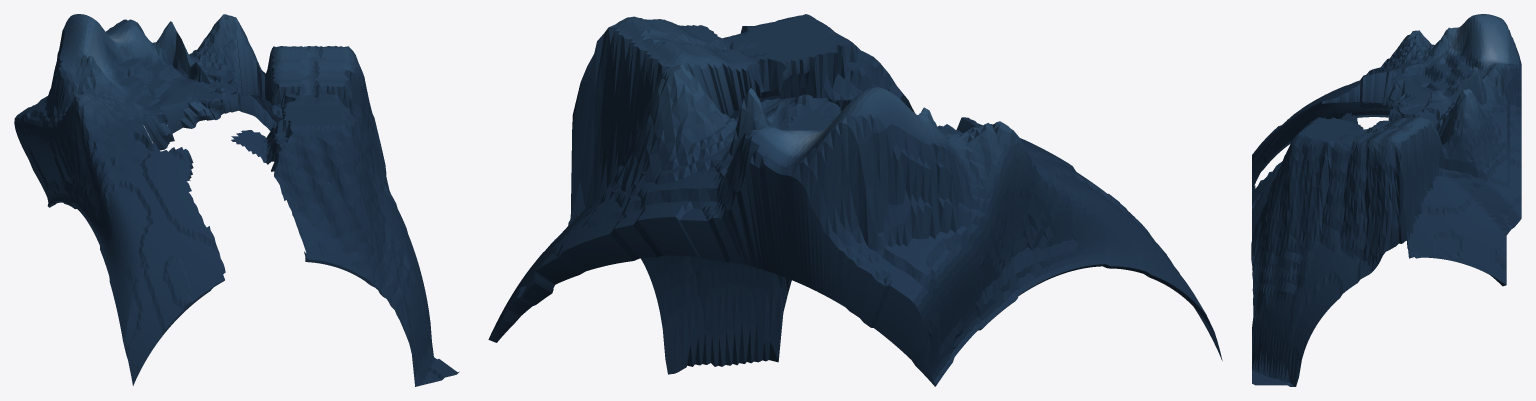
File: citadel-master-terrain-r09.glb
The picture shows the model from 3 angles, left to right: view 1: azimuth 30°, elevation 25°; view 2: azimuth 150°, elevation 25°; view 3: azimuth 270°, elevation 25°; orthographic projection. The views are drawn at different scales.
Parts seen in each view (by area): view 1: citadel-oskar-grid-mountain-surface, citadel-coastal-cliff-seal; view 2: citadel-oskar-grid-mountain-surface, citadel-coastal-cliff-seal; view 3: citadel-oskar-grid-mountain-surface, citadel-coastal-cliff-seal.
Boxes of the visible parts, x1=… form: citadel-oskar-grid-mountain-surface: x1=14, y1=14, x2=459, y2=386; citadel-coastal-cliff-seal: x1=140, y1=31, x2=286, y2=180; citadel-oskar-grid-mountain-surface: x1=488, y1=14, x2=1222, y2=386; citadel-coastal-cliff-seal: x1=684, y1=56, x2=975, y2=133; citadel-oskar-grid-mountain-surface: x1=1251, y1=14, x2=1521, y2=386; citadel-coastal-cliff-seal: x1=1322, y1=71, x2=1457, y2=144.
Bounding box in the file's own units: 222 × 205 × 185.
